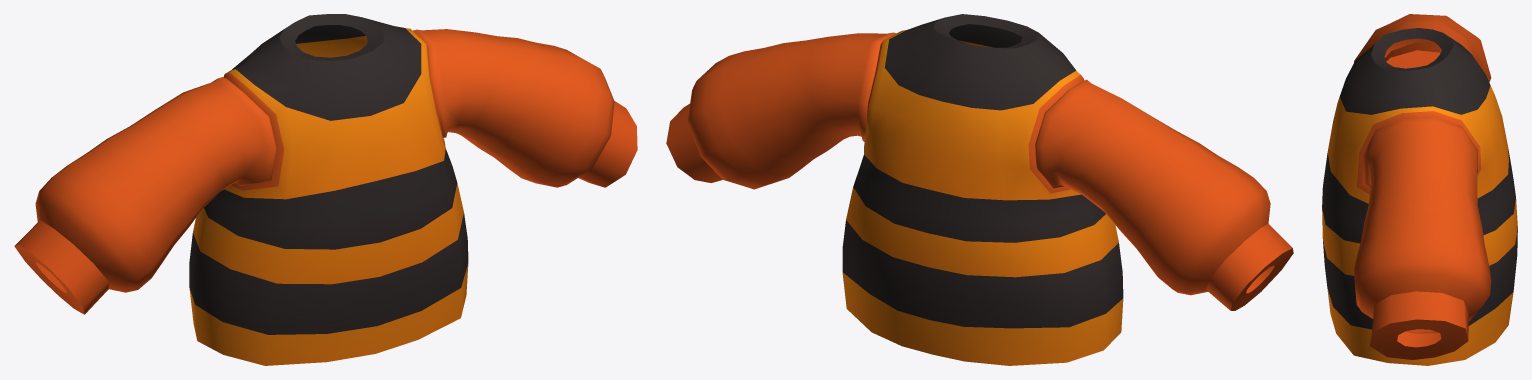
The model's file is Costume_2_01.glb.
3 views of the same model, side by side, from view 1: azimuth 30°, elevation 25°; view 2: azimuth 150°, elevation 25°; view 3: azimuth 270°, elevation 25° (orthographic). The views are drawn at different scales.
Visible parts, largest first — view 1: Costume_2_01; view 2: Costume_2_01; view 3: Costume_2_01.
Part boxes in pixels (x1,y1,x2,y2): Costume_2_01: (14,14,637,365); Costume_2_01: (666,14,1293,365); Costume_2_01: (1322,14,1517,365).
Size of the model in its own units: 0.6606 by 0.3103 by 0.2031.
1 material, 1 textured.
